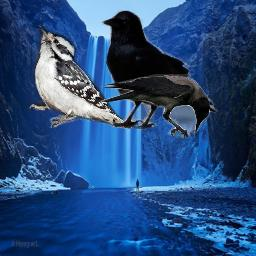Crow: (99, 9, 219, 130), (100, 74, 210, 138)
Woodpecker: (26, 23, 132, 128)
